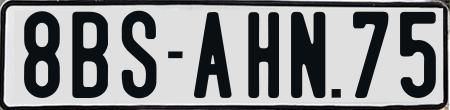5: (399, 12, 432, 99)
7: (351, 10, 388, 97)
8: (22, 11, 59, 104)
A: (193, 9, 236, 96)
B: (72, 9, 110, 96)
H: (248, 12, 280, 98)
N: (291, 10, 325, 102)
S: (121, 11, 158, 98)
